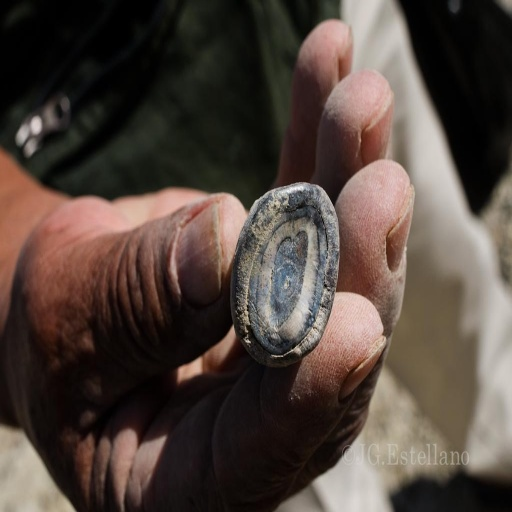hand: (8, 11, 419, 510)
